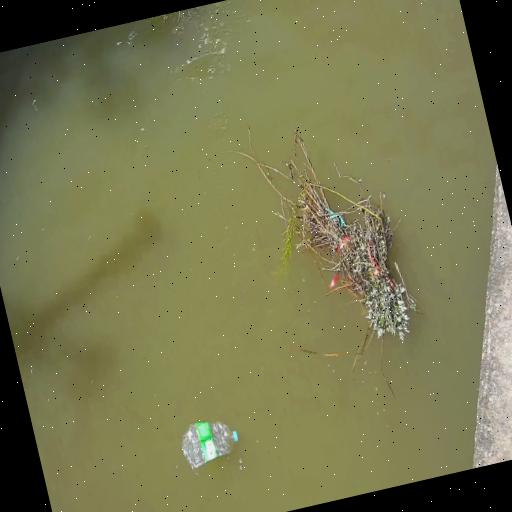plastic: (182, 422, 238, 468), (232, 430, 238, 441)
twig: (222, 125, 422, 398)
